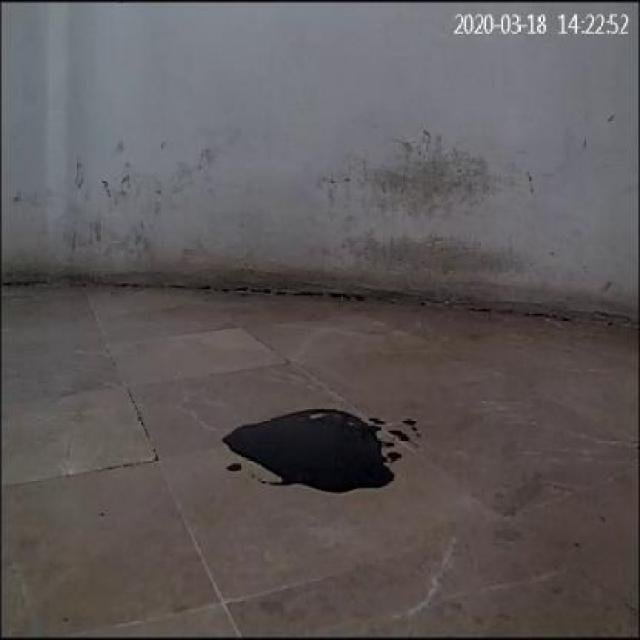spill: (222, 405, 398, 490)
